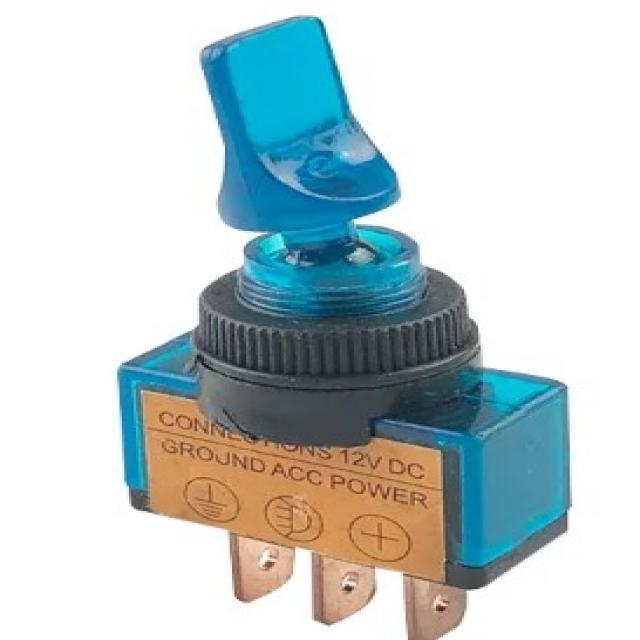toggle switch: (190, 14, 486, 446)
